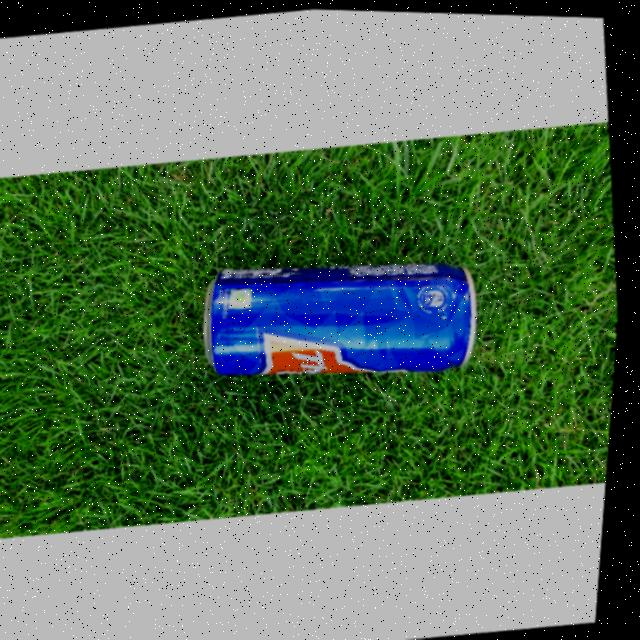Thums Up: (197, 241, 494, 399)
